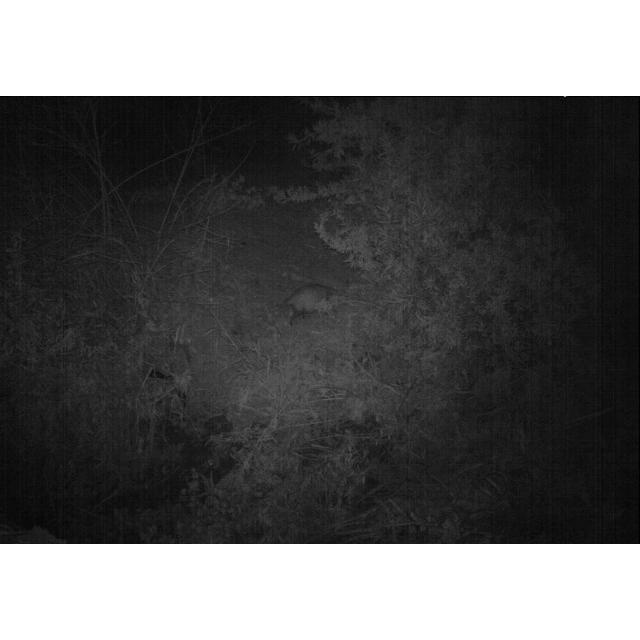animals: (279, 280, 339, 328)
